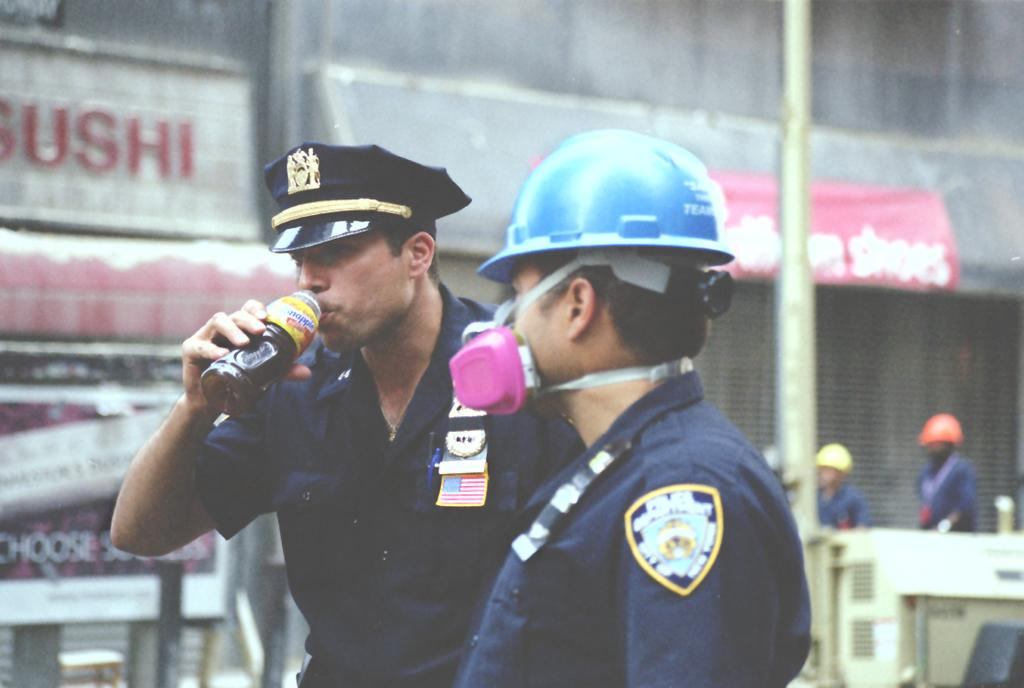helmet: (476, 128, 736, 415), (917, 413, 964, 459), (809, 443, 854, 488)
nohelmet: (259, 139, 475, 360)
